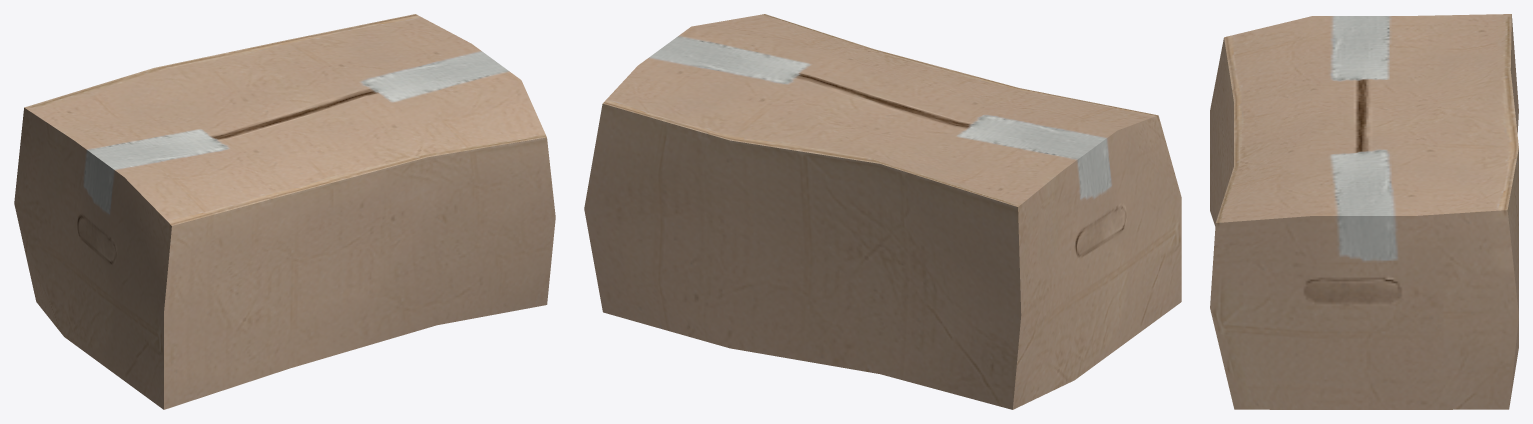
Rendered from CardboardBox_c.FBX.
The picture shows the model from 3 angles, left to right: view 1: azimuth 30°, elevation 25°; view 2: azimuth 150°, elevation 25°; view 3: azimuth 270°, elevation 25°; orthographic projection. The views are drawn at different scales.
Parts seen in each view (by area): view 1: CardboardBox_c; view 2: CardboardBox_c; view 3: CardboardBox_c.
Boxes of the visible parts, <box> form: CardboardBox_c: <box>14,14,555,409</box>; CardboardBox_c: <box>584,14,1181,409</box>; CardboardBox_c: <box>1210,14,1518,409</box>.
Bounding box in the file's own units: 21.65 × 10.27 × 13.78.
